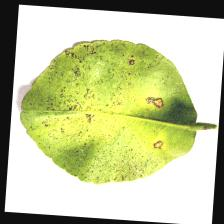canker: (51, 46, 198, 186)
